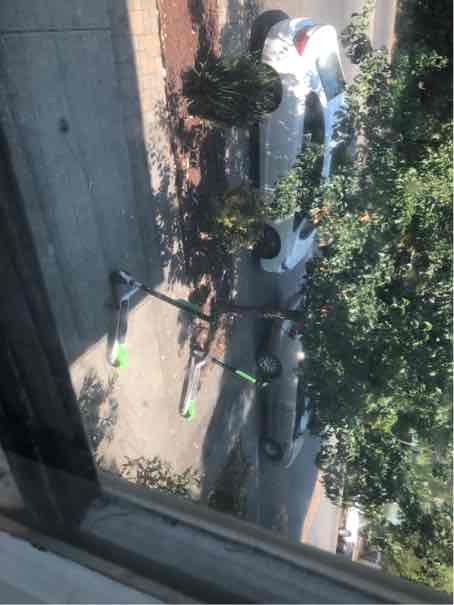scooter: (96, 254, 212, 376), (172, 334, 275, 423)
